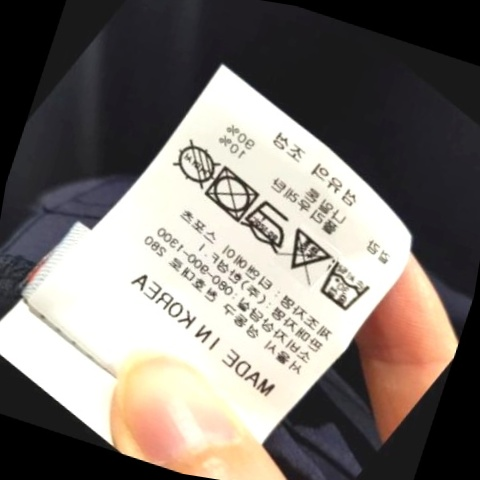DN_tumble_dry: (198, 160, 262, 229)
dry_flat_in_shade: (160, 129, 227, 198)
hand_wash: (312, 253, 377, 319)
iron_low: (235, 188, 297, 254)
non_chlorine_bleach: (274, 224, 334, 292)
